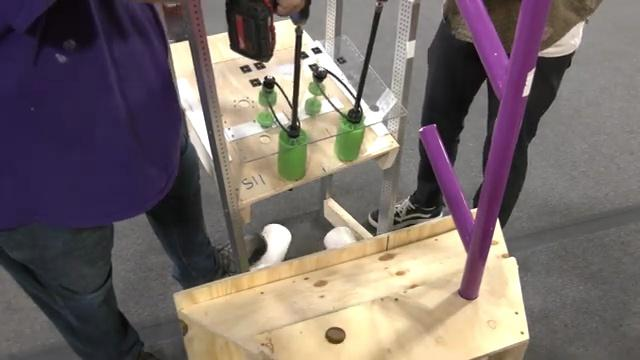CORAL: (248, 221, 292, 271), (324, 226, 356, 248)
